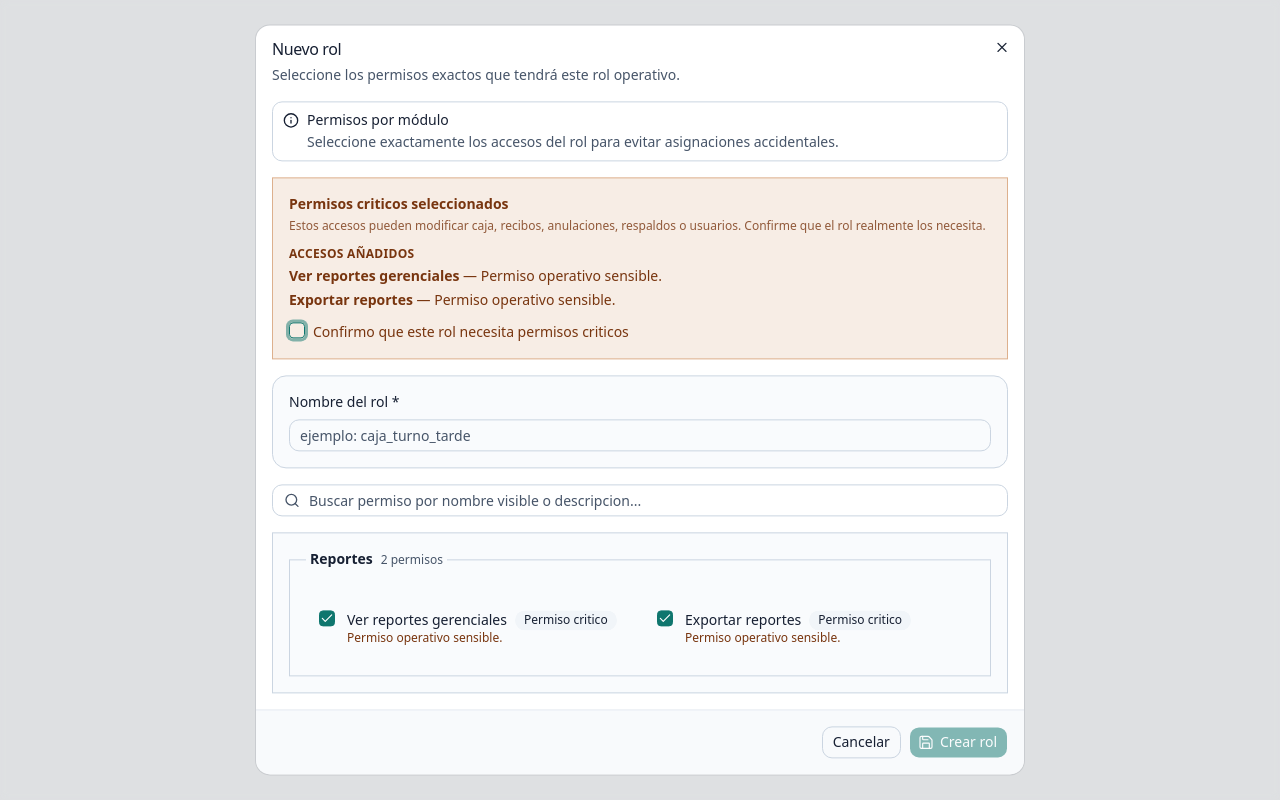
Test: RoleFormDialog › requires explicit confirmation before saving a role with managerial report permissions
Check: the text "Permiso critico" is shown 2 times, box x1=515 y1=611 x2=617 y2=631; x1=809 y1=611 x2=911 y2=631
Check: the button "Crear rol" is disabled, box x1=909 y1=727 x2=1008 y2=759
Click the checkbox named "confirmo que este rol necesita permisos criticos" below "Accesos añadidos".
click(297, 330)  # box x1=289 y1=322 x2=305 y2=338
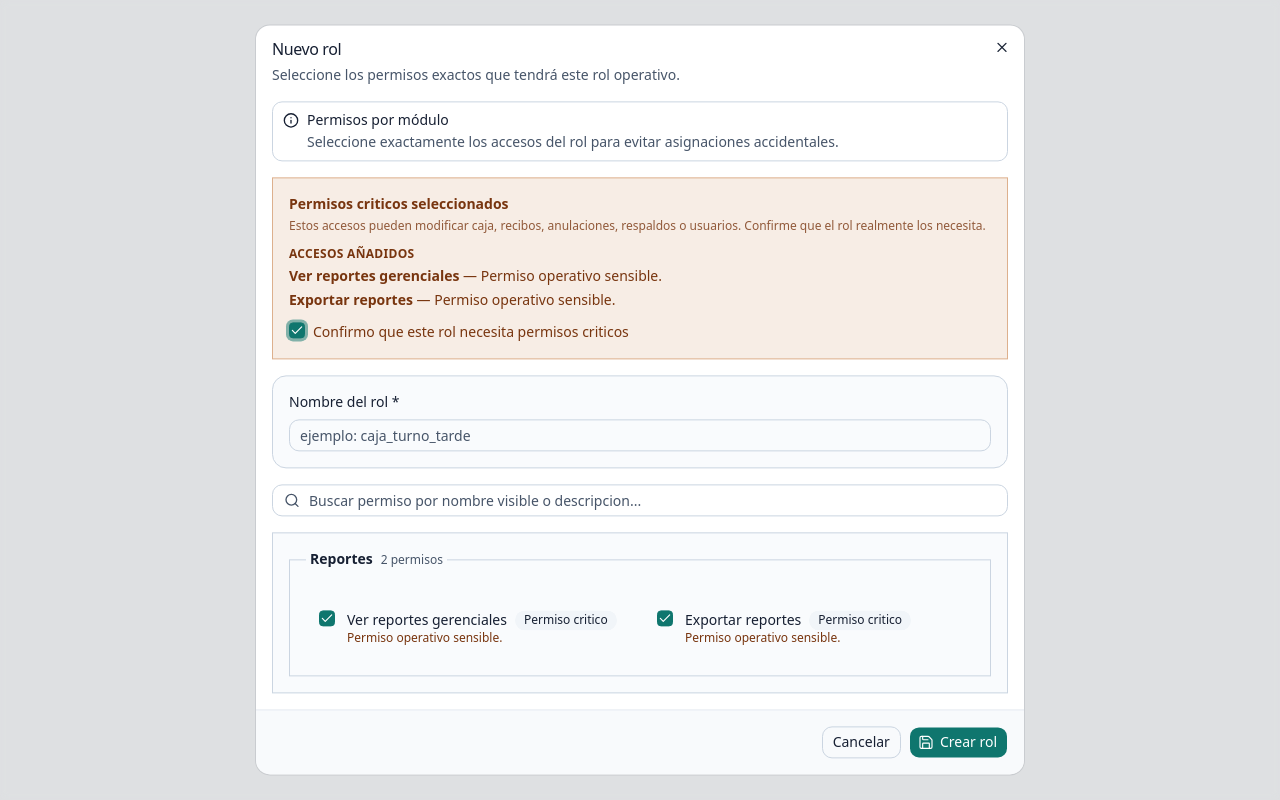
Check: the button "Crear rol" is enabled, box x1=909 y1=727 x2=1008 y2=759
